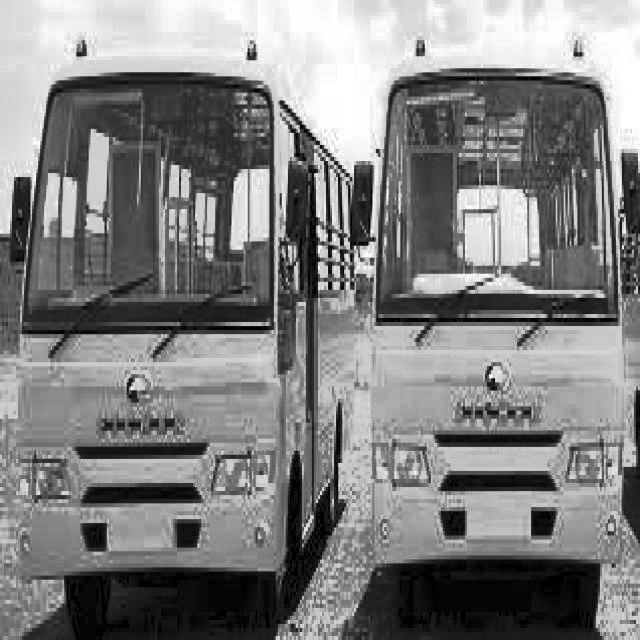Bus: (6, 34, 368, 631), (359, 34, 640, 612)
